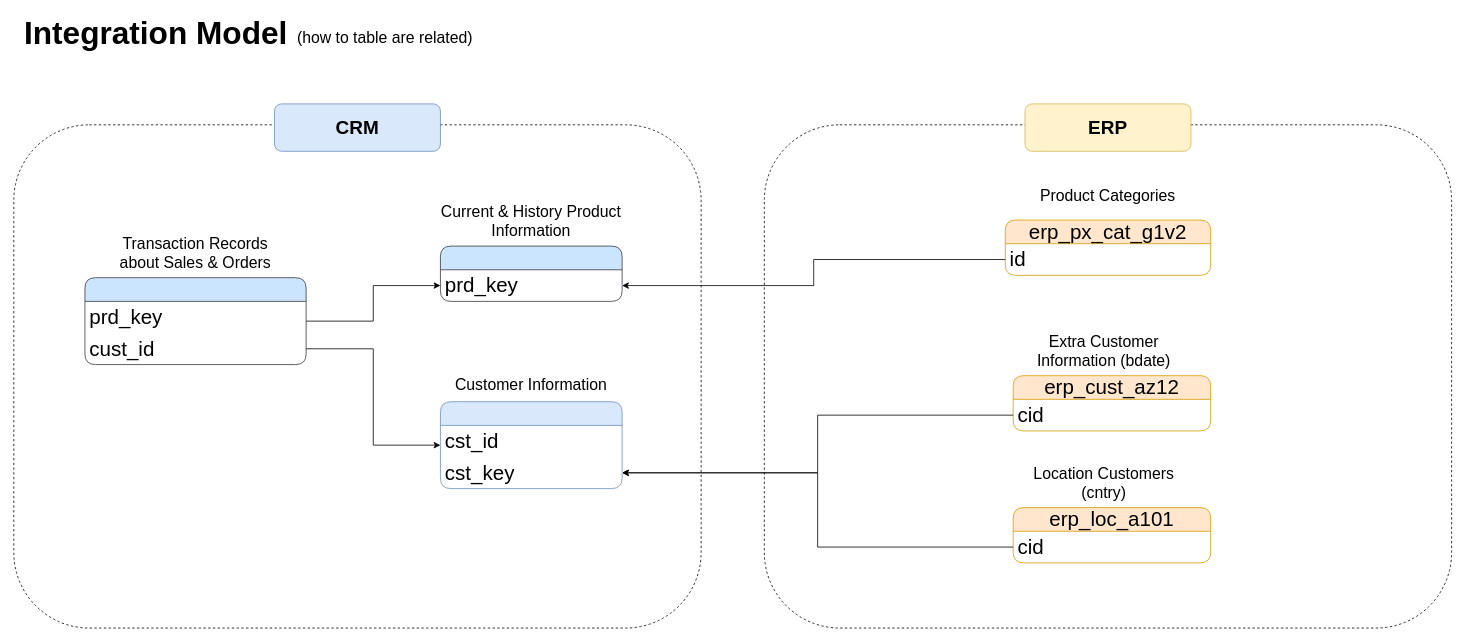
This 1465x641 diagram has some shape labels left out. The shapes that lost their labels are listed below. From the top down, each one's box as (x1, y1, x2, y2) in pixels, then its label:
(440, 245, 622, 301): crm_prd_info
(84, 277, 306, 365): crm_sales_details
(440, 401, 622, 489): crm_cust_info
